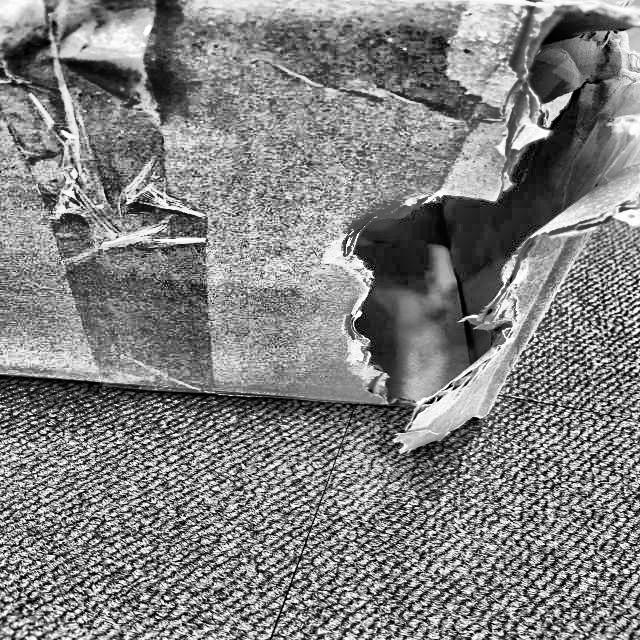box: (0, 0, 639, 465)
hole: (347, 2, 630, 410)
